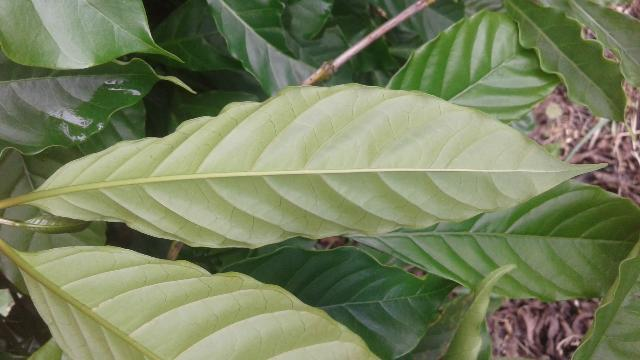healthy: (28, 85, 608, 243)
